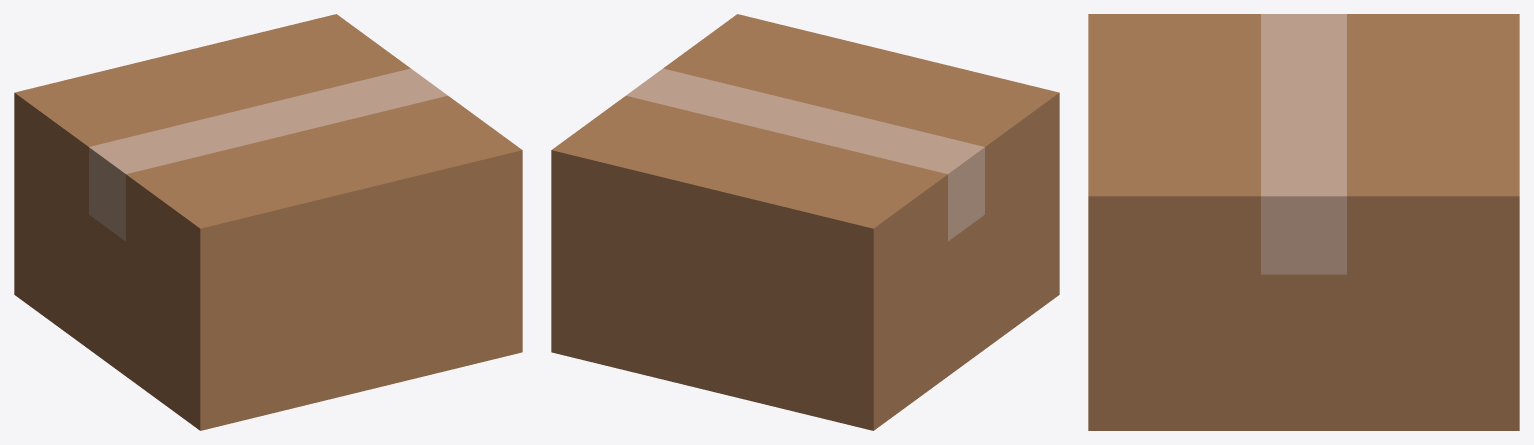
Rendered from KidsRoomStorage-4.obj.
The picture shows the model from 3 angles, left to right: view 1: azimuth 30°, elevation 25°; view 2: azimuth 150°, elevation 25°; view 3: azimuth 270°, elevation 25°; orthographic projection. The views are drawn at different scales.
Size of the model in its own units: 0.5 by 0.3 by 0.5.
Materials: 1 (1 with a texture image).
